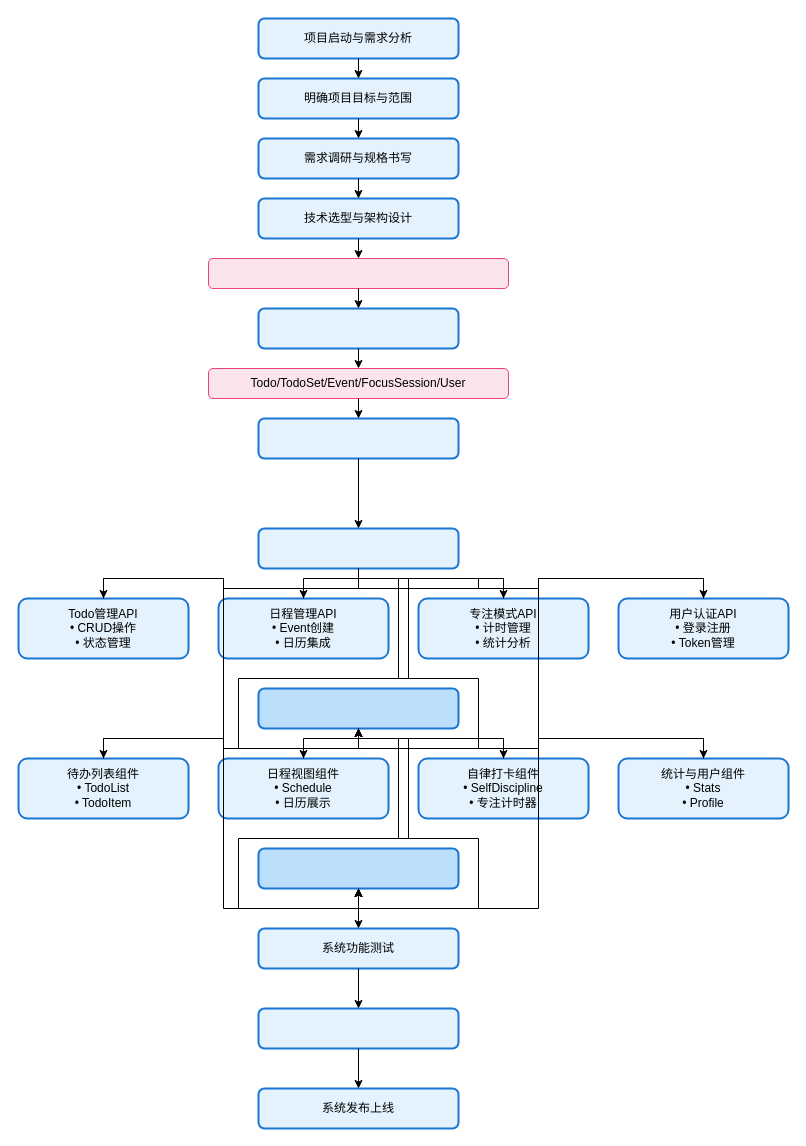
Some shapes in this 806 by 1146 pixel diagram are drawn without their labels. Each missing label, with the centre of its shape:
"UI/UX设计" goes at point (358, 438).
"Vue3 + TypeScript + Node.js + MongoDB" goes at point (358, 273).
"前后端集成联调" goes at point (358, 868).
"后端核心服务开发" goes at point (358, 548).
"后端联调测试" goes at point (358, 708).
"数据库设计" goes at point (358, 328).
"用户验收测试" goes at point (358, 1028).
